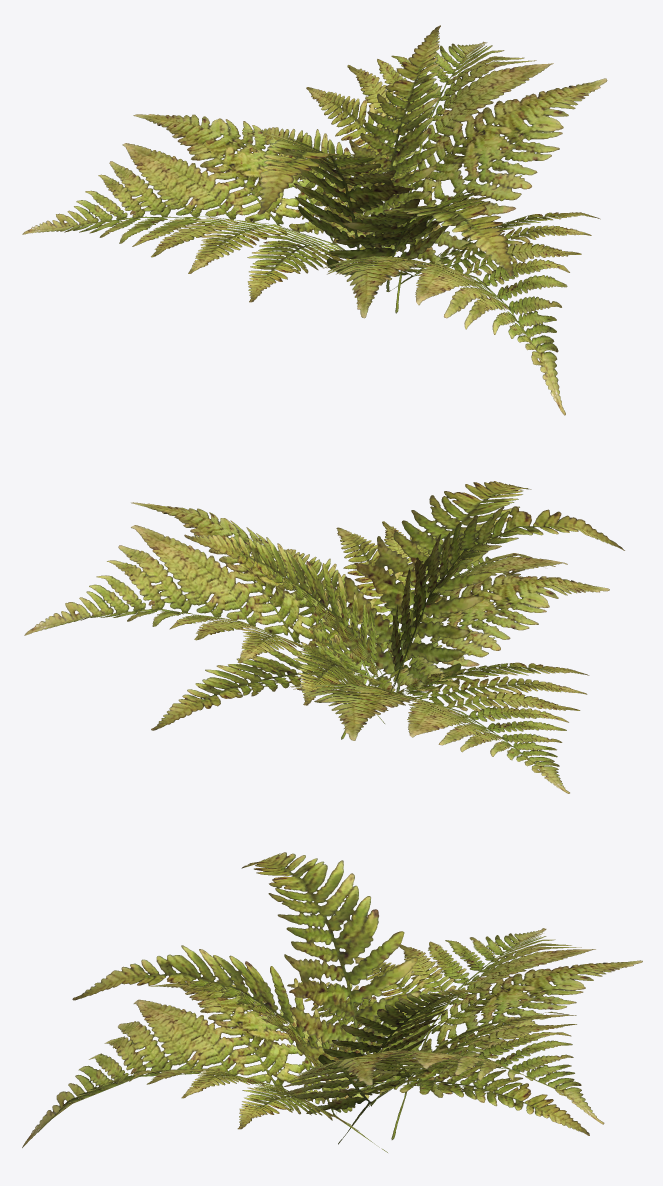
Rendered from Fern.FBX.
3 views of the same model, one above another, from view 1: azimuth 30°, elevation 25°; view 2: azimuth 150°, elevation 25°; view 3: azimuth 270°, elevation 25° (orthographic). The views are drawn at different scales.
Parts seen in each view (by area): view 1: Fern; view 2: Fern; view 3: Fern.
Boxes of the visible parts, <box> form: Fern: <box>22,25,607,415</box>; Fern: <box>24,481,624,793</box>; Fern: <box>22,852,642,1152</box>.
Bounding box in the file's own units: 4.76 × 2.02 × 4.87.
